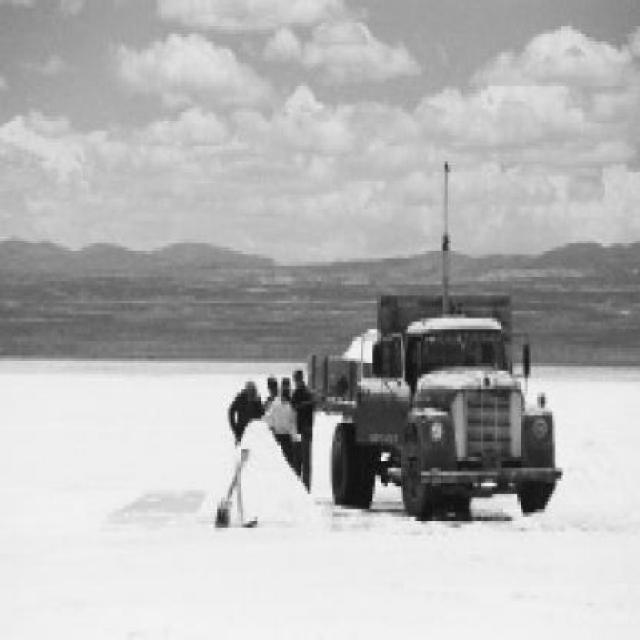Truck- 2-Axle: (310, 162, 564, 523)
